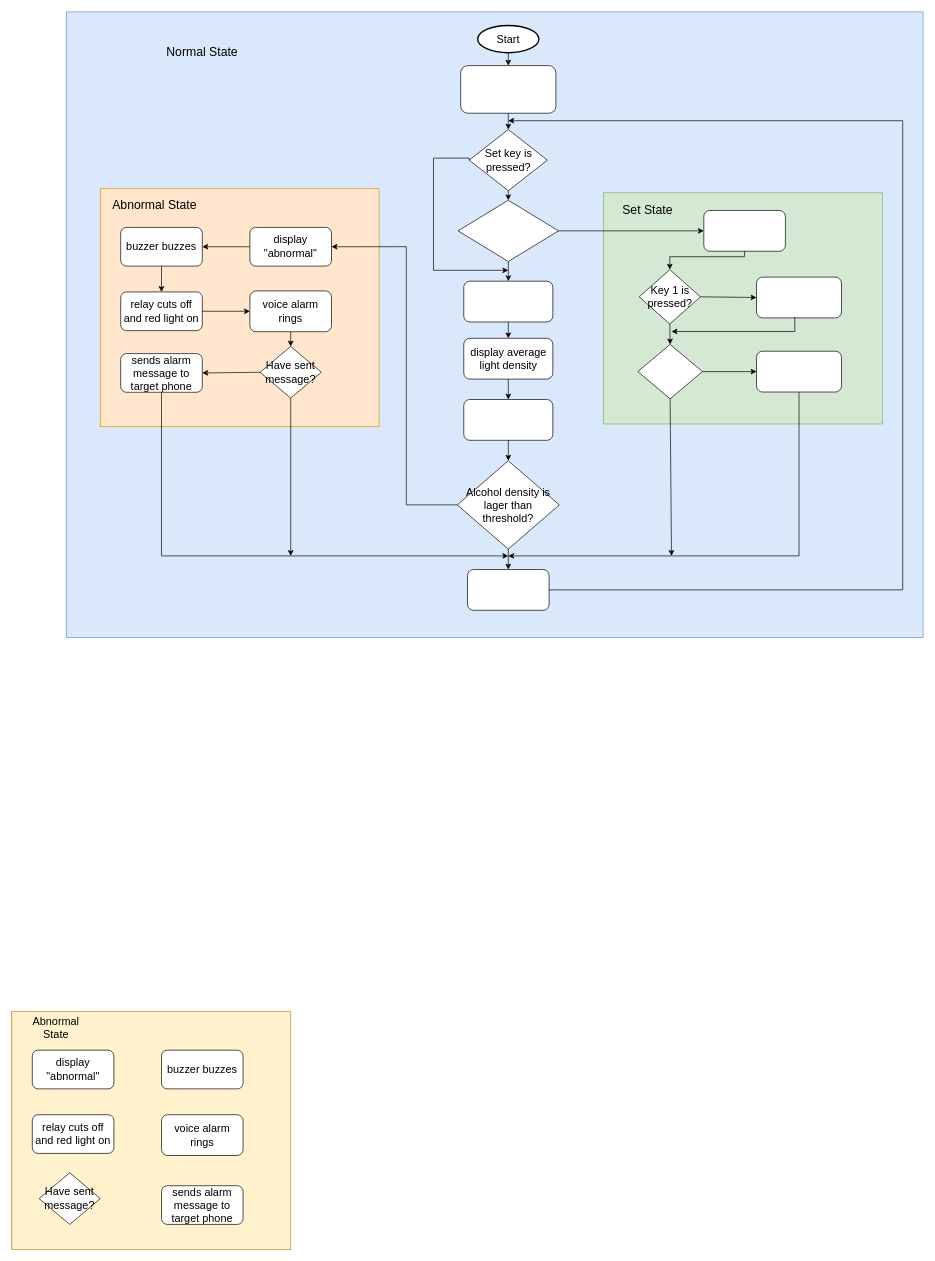
Image size: 935x1261. Some labels were removed from this diagram. Here are the shapes that lost their labels. From the top down, the box of each, then its label:
(460, 65, 556, 113): OLED displays physical quantities
(457, 200, 559, 261): Set key is pressed again?
(703, 210, 785, 251): display "Set"
(463, 280, 553, 322): display whether people surround
(756, 276, 842, 318): Alcohol threshold increases by 1
(637, 344, 702, 399): Key 2 is pressed?
(756, 351, 842, 392): Alcohol threshold decreases by 1
(463, 399, 553, 440): display average alcohol density
(467, 569, 549, 610): Update data at OLED
